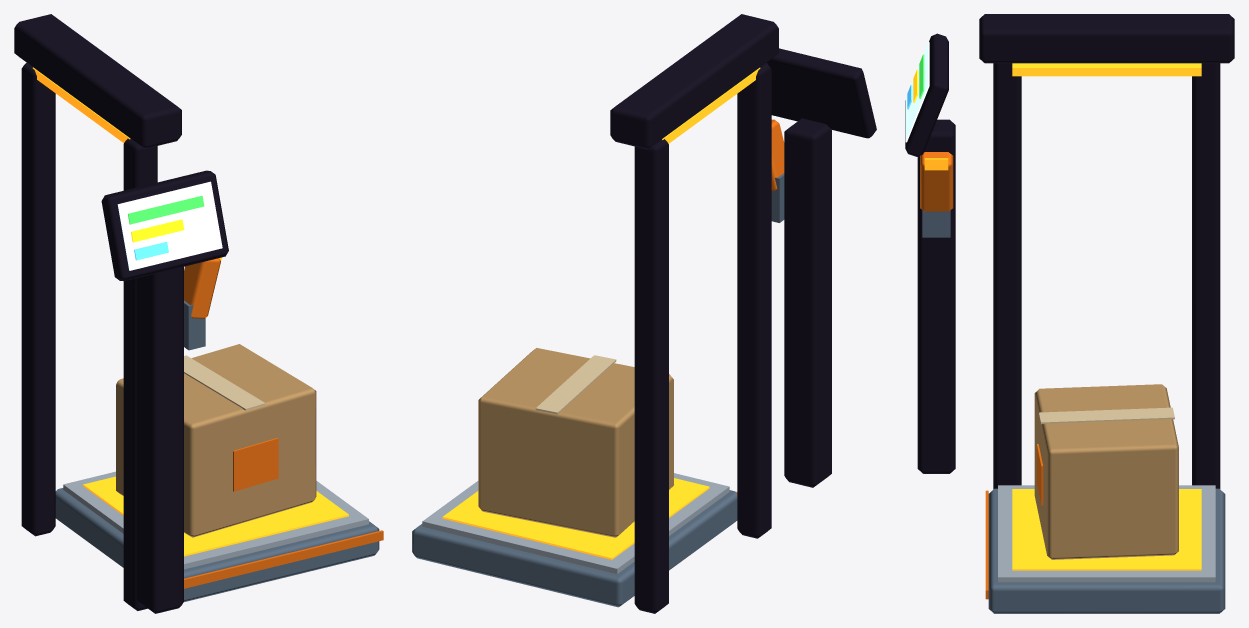
Rendered from station_transport_ausstattung_2_3.glb.
The picture shows the model from 3 angles, left to right: view 1: azimuth 30°, elevation 25°; view 2: azimuth 150°, elevation 25°; view 3: azimuth 270°, elevation 25°; orthographic projection. The views are drawn at different scales.
Parts seen in each view (by area): view 1: station_transport_ausstattung_2_3; view 2: station_transport_ausstattung_2_3; view 3: station_transport_ausstattung_2_3.
Boxes of the visible parts, x1,y1,x2,y2 form: station_transport_ausstattung_2_3: [14, 14, 383, 613]; station_transport_ausstattung_2_3: [412, 14, 876, 613]; station_transport_ausstattung_2_3: [905, 14, 1234, 613].
Size of the model in its own units: 0.72 by 1.14 by 0.6962.
